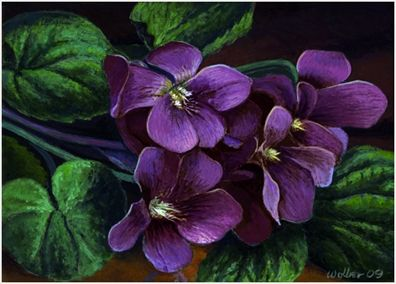violet: (87, 44, 240, 145), (114, 145, 238, 269), (234, 113, 336, 234), (249, 44, 386, 131)
